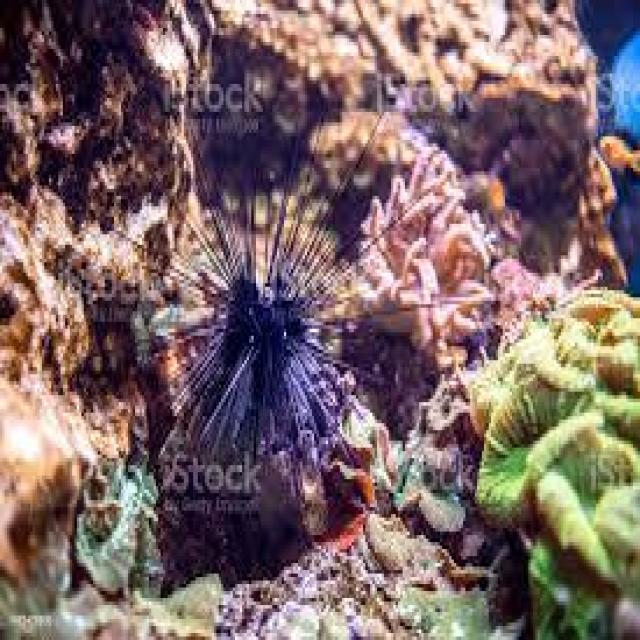Urchin: (116, 128, 428, 488)
